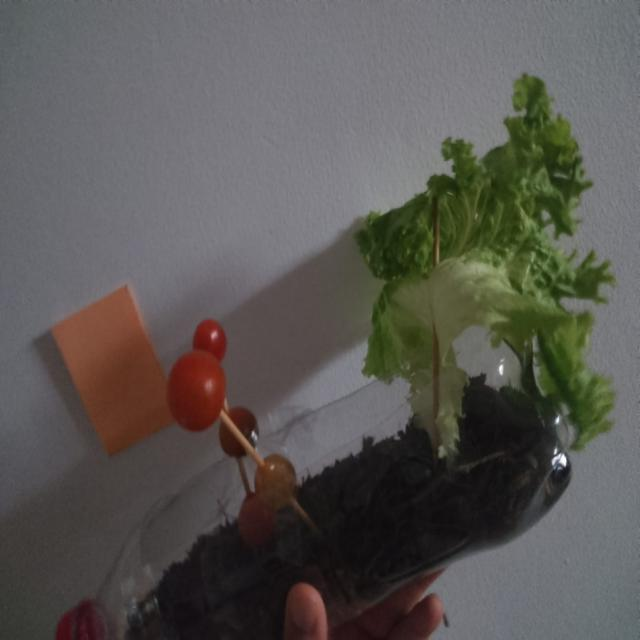card: (52, 286, 173, 454)
fruit_maturation: (254, 454, 296, 510)
fully_grown: (167, 319, 259, 441), (219, 420, 277, 545)
